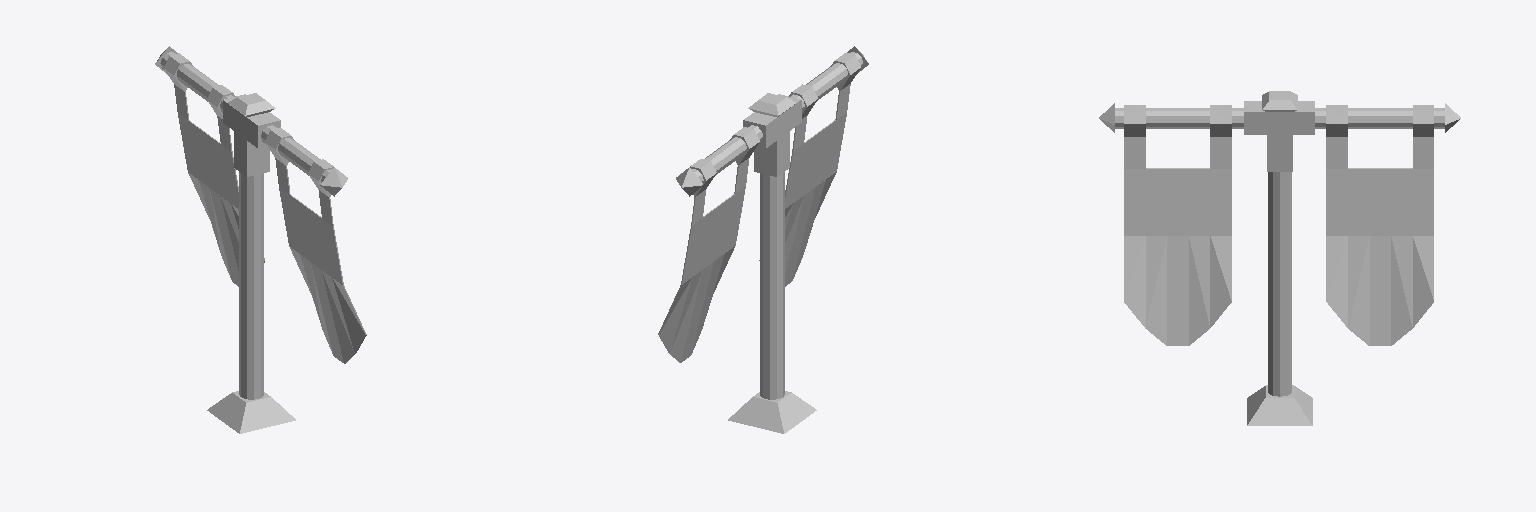
The model's file is FlagBlue2.obj.
The picture shows the model from 3 angles: view 1: azimuth 30°, elevation 25°; view 2: azimuth 150°, elevation 25°; view 3: azimuth 270°, elevation 25°; orthographic projection.
Visible parts, largest first — view 1: polySurface2; view 2: polySurface2; view 3: polySurface2.
Boxes of the visible parts, x1,y1,x2,y2 form: polySurface2: [155, 46, 366, 433]; polySurface2: [658, 46, 868, 433]; polySurface2: [1099, 91, 1460, 425].
Bounding box in the file's own units: 1.15 × 5.29 × 5.51.